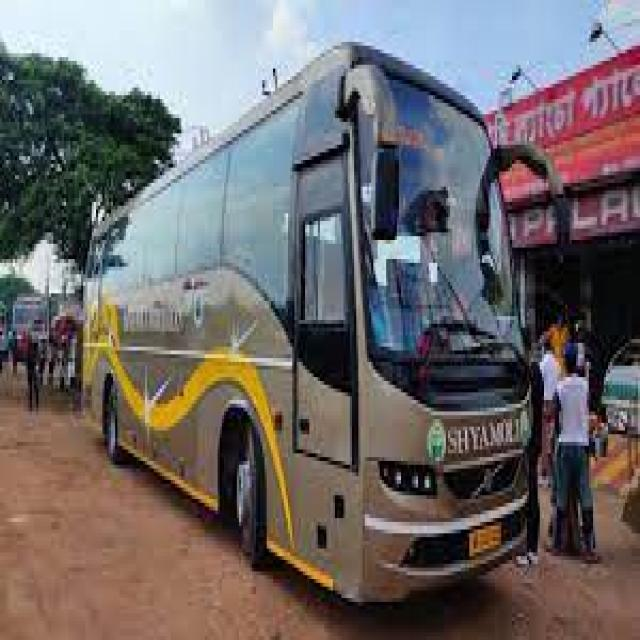Bus: (75, 39, 543, 618)
